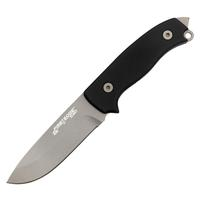knife: (4, 10, 194, 188)
